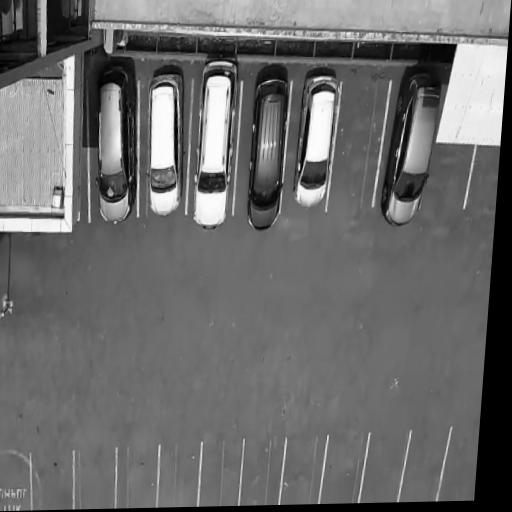Car: (375, 71, 445, 227), (189, 53, 245, 236), (87, 59, 147, 222), (242, 65, 297, 236), (139, 67, 194, 222), (290, 71, 342, 213)
Space Available: (328, 79, 384, 212), (362, 431, 406, 502), (199, 438, 242, 507), (403, 432, 446, 500), (426, 145, 466, 214), (282, 440, 324, 503), (242, 442, 282, 504), (323, 439, 363, 501), (159, 448, 199, 506), (443, 431, 479, 495), (117, 454, 157, 509), (33, 455, 72, 509), (76, 452, 114, 506), (0, 454, 30, 511), (472, 151, 500, 210)
